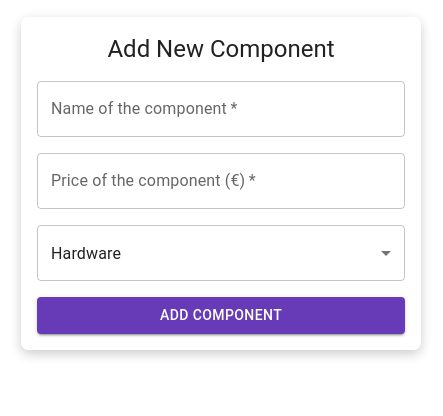
Test: FormComponent › should show loading state when submitting the form
Type "New Component" into the field labelled "Name of the component *". click: coordinates (221, 109)
box: [37,81,405,137]
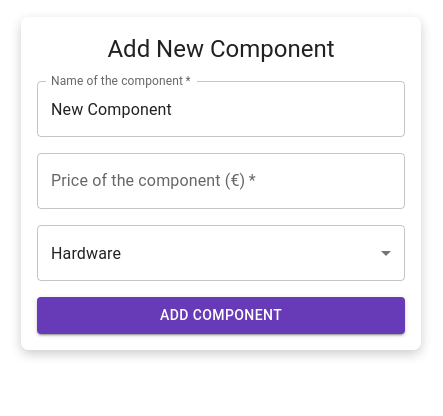
Type "100" into the number field labelled "Price of the component (€) *". click: coordinates (221, 181)
box: [37,153,405,209]
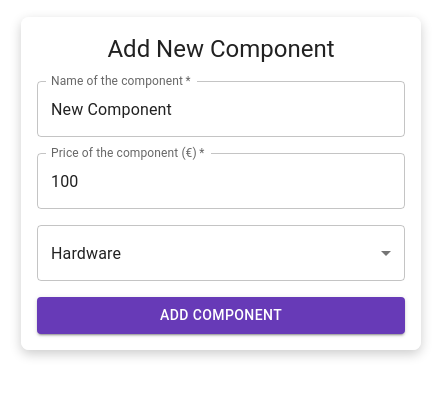
Click the button "Add Component". click: coordinates (221, 315)
box: [37,297,405,334]
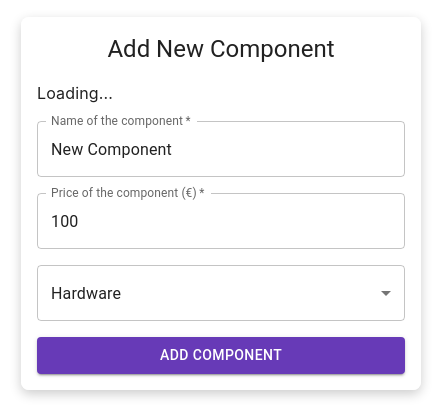
Now the text "Loading..." is shown, box [37,83,113,103]
